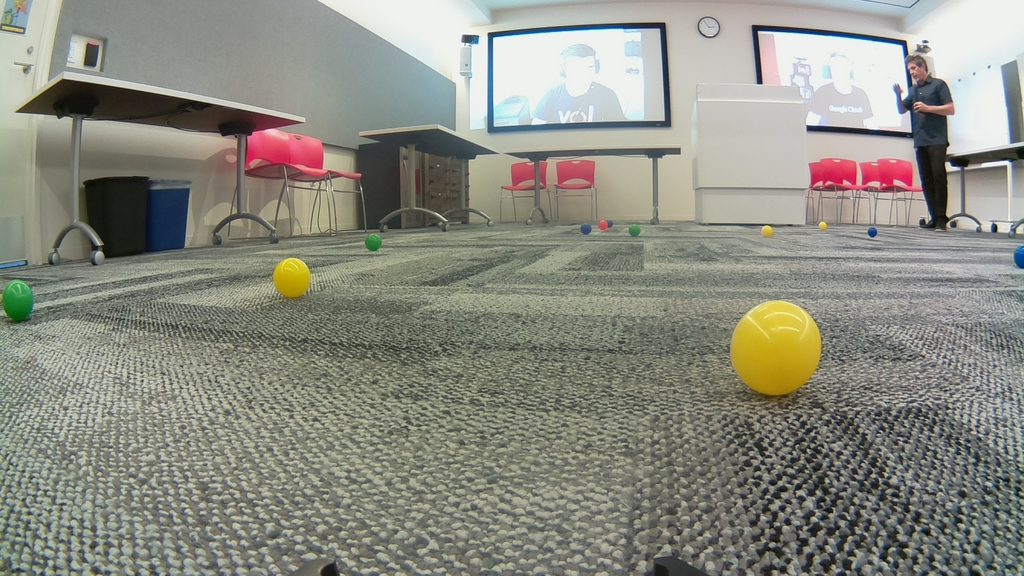ball: (273, 258, 310, 299)
